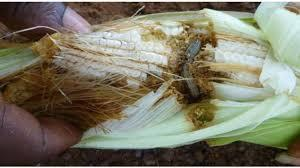fallarmy_worm: (173, 36, 207, 104)
